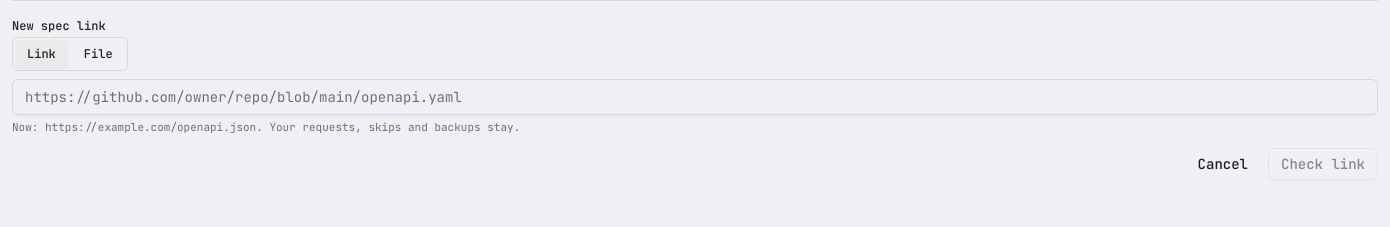
Test: ChangeLinkForm › the_same_spec_says_so
In the field named "New spec link": (695, 97) [12,79,1378,115], type "https://example.com/other.json"
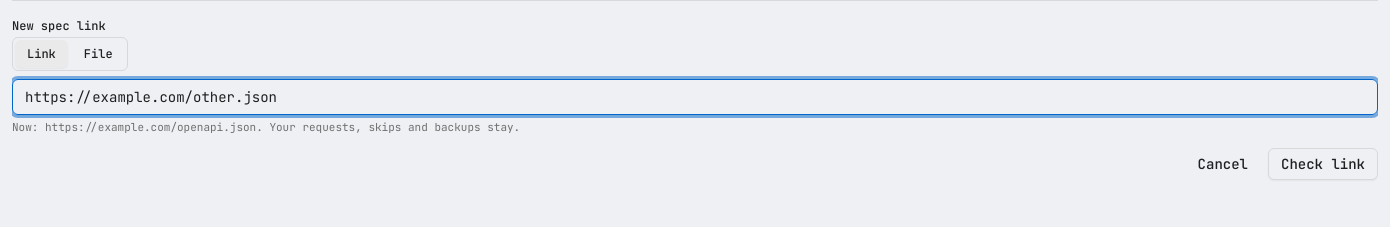
Click the button "Check link": (1323, 164) [1268,148,1378,180]
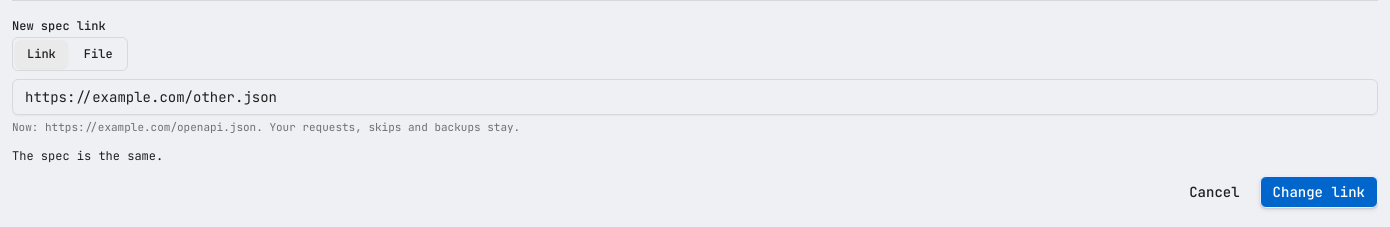
Result: the text "The spec is the same." is shown at [12,148,163,164]
